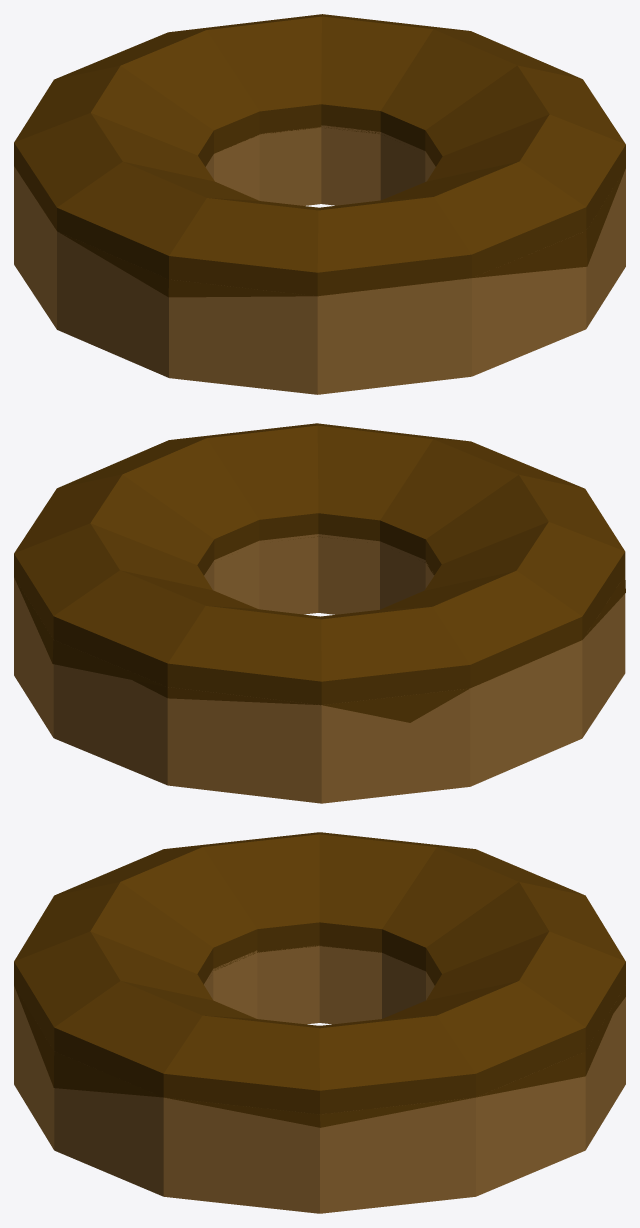
File: Пончик (целый).fbx
3 renders of one model, top to bottom at view 1: azimuth 30°, elevation 25°; view 2: azimuth 150°, elevation 25°; view 3: azimuth 270°, elevation 25°, orthographic.
Parts seen in each view (by area): view 1: Куб; view 2: Куб; view 3: Куб.
Part boxes in pixels (left/top/right/bottom): Куб: left=14, top=14, right=625, bottom=394; Куб: left=14, top=423, right=625, bottom=803; Куб: left=14, top=832, right=625, bottom=1213.
Bounding box in the file's own units: 190 × 63.37 × 189.
